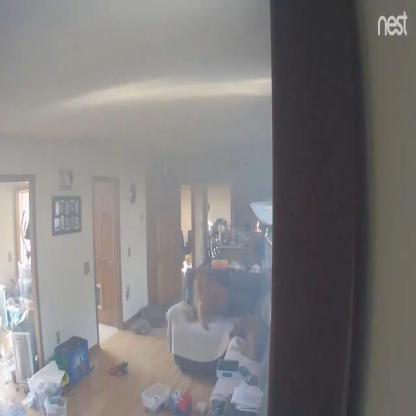fire: (256, 221, 262, 232)
